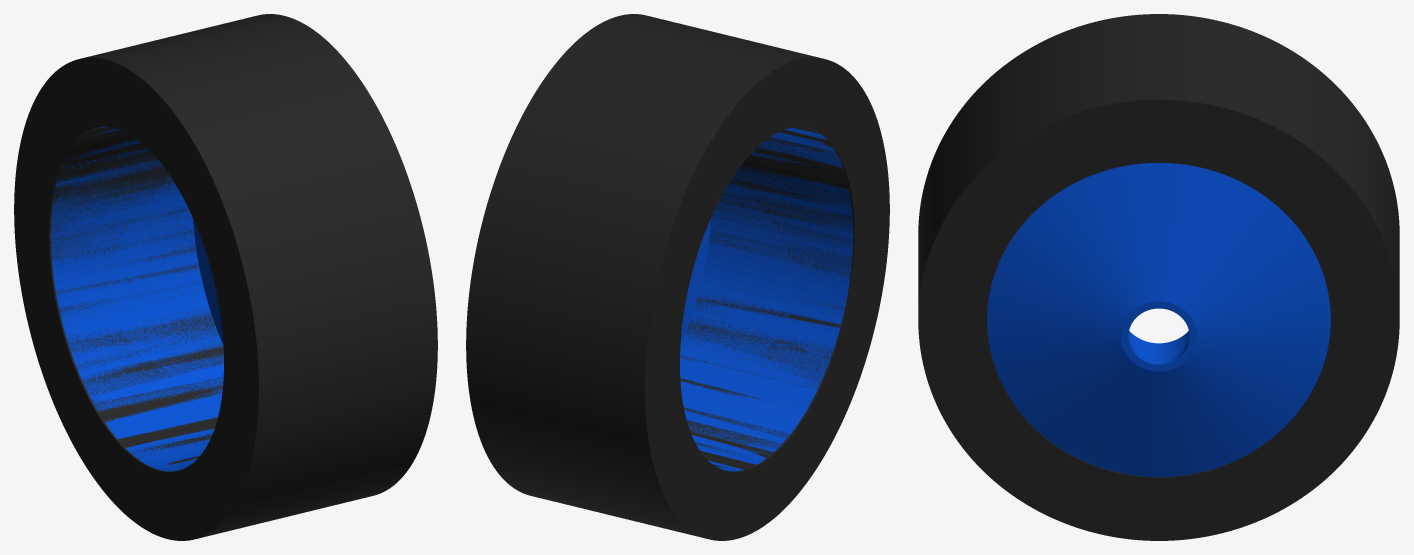
Rendered from wheel4.dae.
3 views of the same model, side by side, from view 1: azimuth 30°, elevation 25°; view 2: azimuth 150°, elevation 25°; view 3: azimuth 270°, elevation 25° (orthographic).
Parts seen in each view (by area): view 1: wheel4.001; view 2: wheel4.001; view 3: wheel4.001.
Part boxes in pixels (x1=…): wheel4.001: x1=14, y1=14, x2=437, y2=540; wheel4.001: x1=466, y1=14, x2=889, y2=540; wheel4.001: x1=918, y1=14, x2=1399, y2=540.
Size of the model in its own units: 31.57 by 63 by 63.71.
